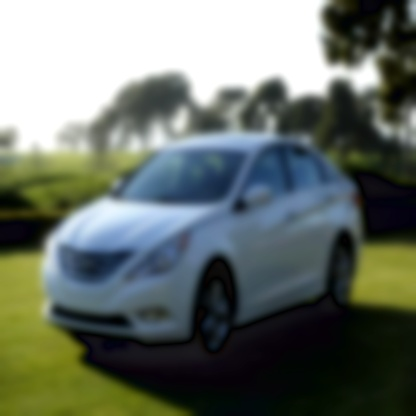Vehicle: (42, 132, 364, 368)
